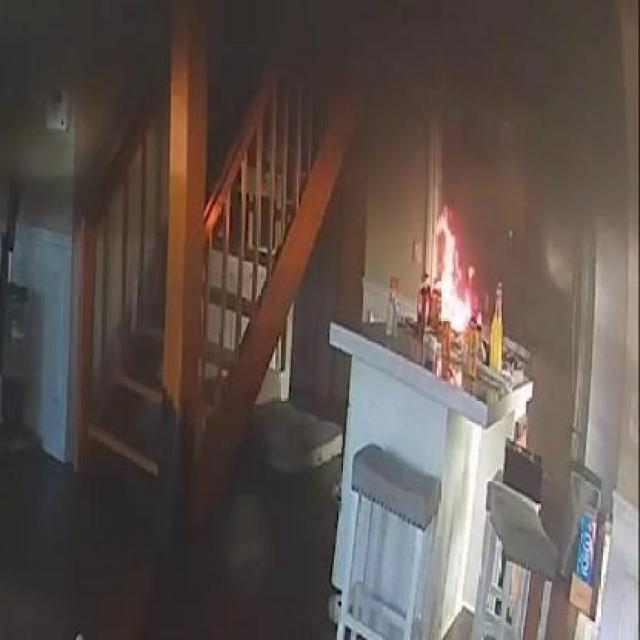fire: (426, 184, 480, 338)
